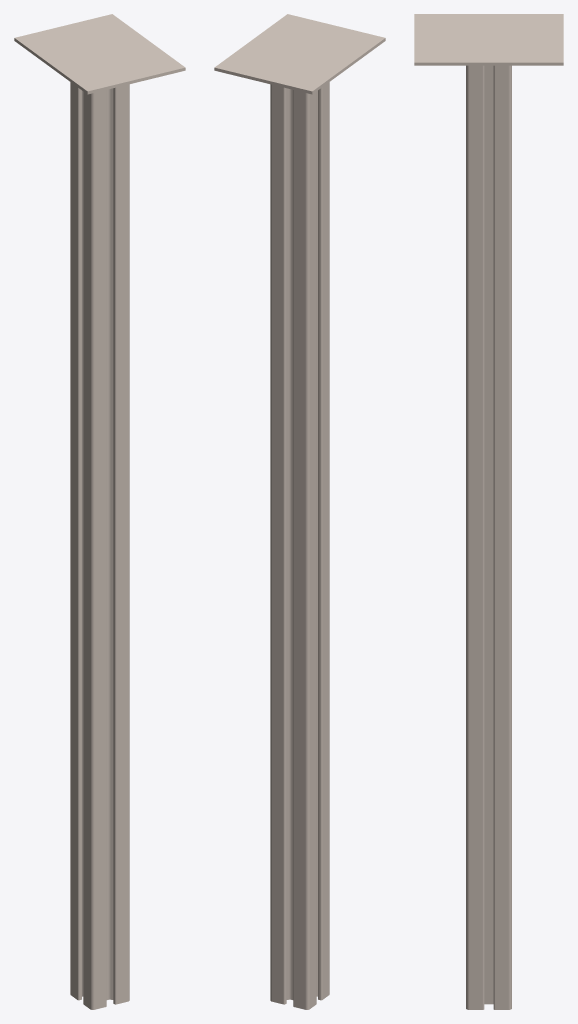
Rendered from vertical_rail.dae.
The picture shows the model from 3 angles, left to right: view 1: azimuth 30°, elevation 25°; view 2: azimuth 150°, elevation 25°; view 3: azimuth 270°, elevation 25°; orthographic projection.
Parts seen in each view (by area): view 1: sw24_Tslot40x40x80, sw24_GPSsupport; view 2: sw24_Tslot40x40x80, sw24_GPSsupport; view 3: sw24_Tslot40x40x80, sw24_GPSsupport.
Boxes of the visible parts, x1,y1,x2,y2 form: sw24_Tslot40x40x80: (70,82,129,1009); sw24_GPSsupport: (14,14,185,94); sw24_Tslot40x40x80: (270,82,329,1009); sw24_GPSsupport: (214,14,385,94); sw24_Tslot40x40x80: (466,65,511,1009); sw24_GPSsupport: (414,14,563,65).
Size of the model in its own units: 0.1004 by 0.13 by 0.9256.
